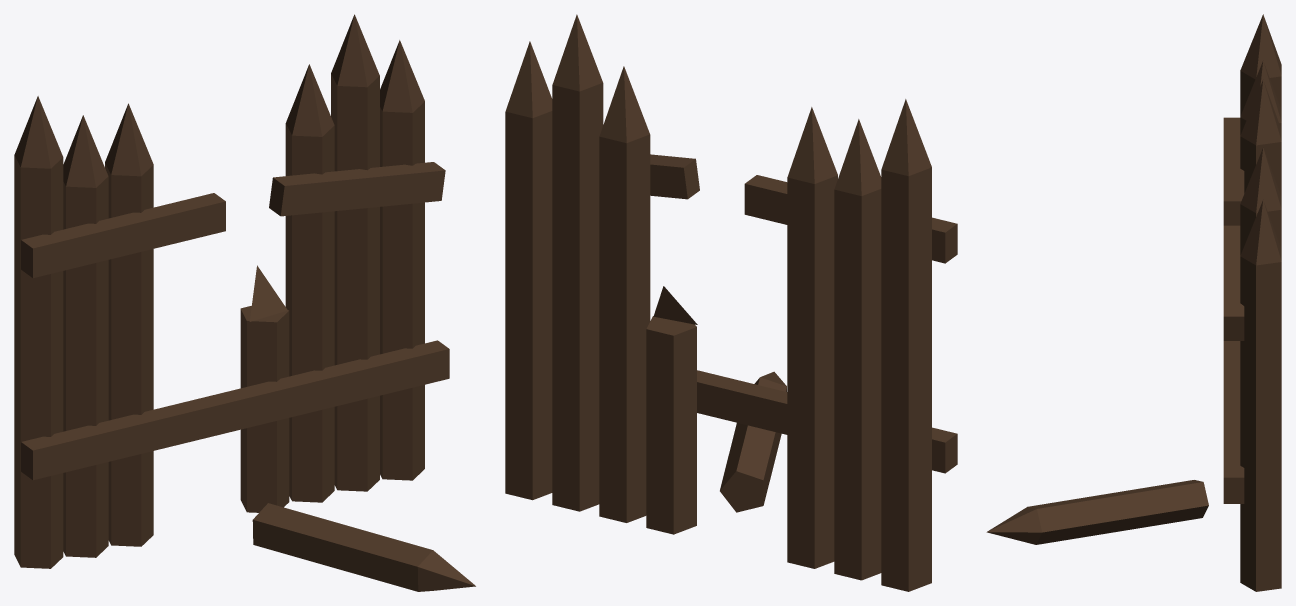
File: palisade_damaged.glb
3 renders of one model, left to right at view 1: azimuth 30°, elevation 25°; view 2: azimuth 150°, elevation 25°; view 3: azimuth 270°, elevation 25°, orthographic. The views are drawn at different scales.
Parts seen in each view (by area): view 1: Section; view 2: Section; view 3: Section.
Boxes of the visible parts, <box> form: Section: <box>14,14,475,591</box>; Section: <box>505,14,957,591</box>; Section: <box>986,14,1281,591</box>.
Bounding box in the file's own units: 2.05 × 2.24 × 1.42.
